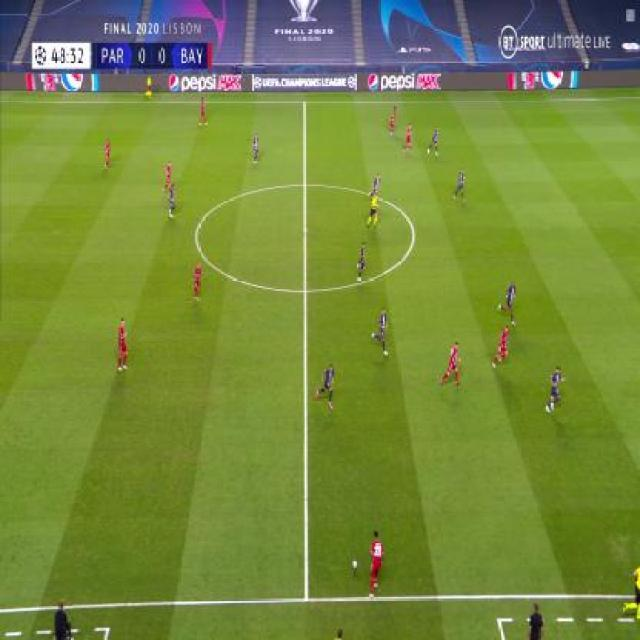ball: (352, 558, 357, 571)
player: (366, 531, 385, 599), (621, 563, 640, 621), (315, 362, 337, 410), (439, 342, 461, 388), (545, 365, 565, 413), (371, 308, 390, 357), (497, 281, 517, 326), (54, 599, 74, 639), (492, 326, 511, 368), (525, 600, 544, 640), (116, 319, 130, 373), (365, 192, 381, 231), (191, 262, 204, 301), (453, 167, 466, 201), (356, 240, 367, 279), (427, 126, 440, 157), (162, 161, 173, 194), (368, 172, 381, 197), (103, 138, 112, 171), (169, 183, 177, 219), (403, 122, 412, 153), (388, 106, 397, 137), (199, 97, 208, 126), (252, 132, 260, 163), (145, 74, 153, 100)
